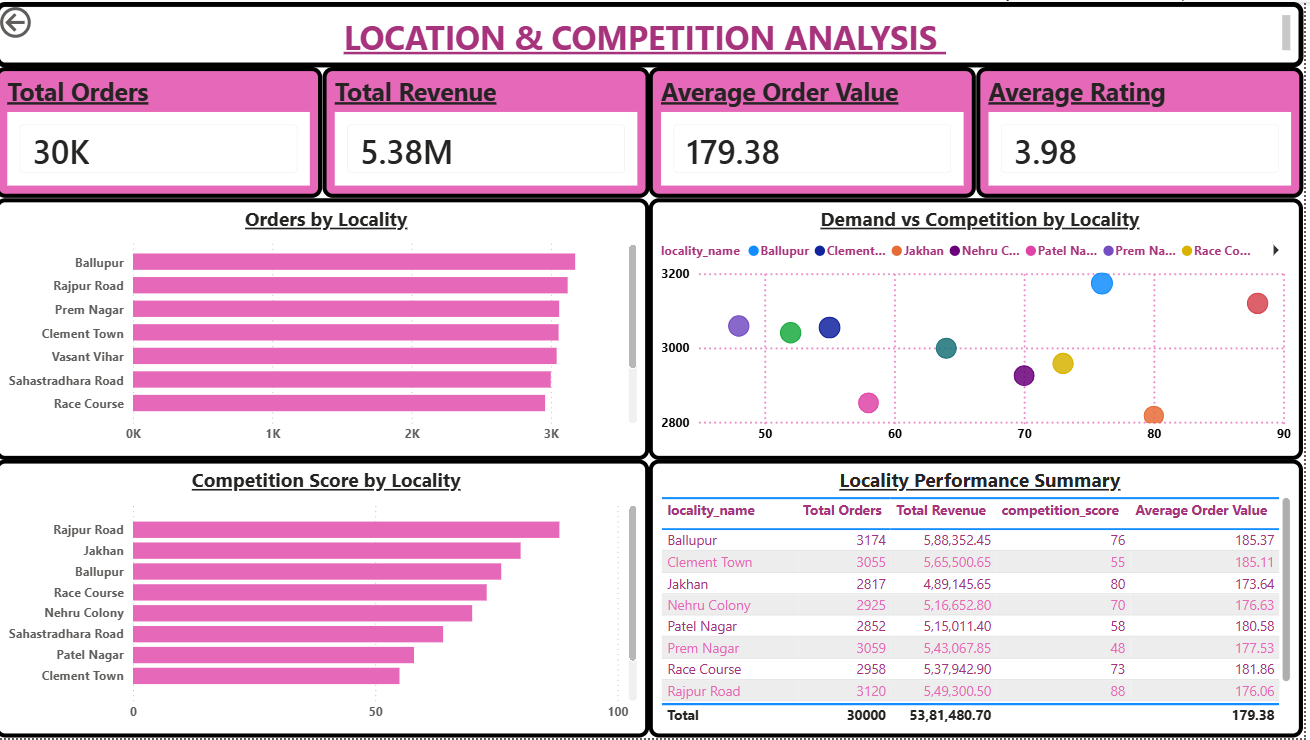

What the dashboard file says about the page in this screenshot:
{"tool":"powerbi","page":{"name":"Location & Competition","canvas":[1280,720],"ordinal":2},"visuals":[{"type":"textbox","box":[0,0,1280,64],"z":0},{"type":"cardVisual","title":"Total Orders","fields":{"Data":["orders.Total Orders"]},"box":[0,64,320,128],"z":1000},{"type":"cardVisual","title":"Total Revenue","fields":{"Data":["orders.Total Revenue"]},"box":[320,64,320,128],"z":2000},{"type":"cardVisual","title":"Average Order Value","fields":{"Data":["orders.Average Order Value"]},"box":[640,64,320,128],"z":3000},{"type":"cardVisual","title":"Average Rating","fields":{"Data":["orders.Average Rating"]},"box":[960,64,320,128],"z":4000},{"type":"clusteredBarChart","title":"Orders by Locality","fields":{"Category":["localities.locality_name"],"Y":["orders.Total Orders"]},"box":[0,192,640,256],"z":5000},{"type":"scatterChart","title":"Demand vs Competition by Locality","fields":{"X":["localities.competition_score"],"Y":["orders.Total Orders"],"Size":["orders.Total Revenue"],"Series":["localities.locality_name"]},"box":[640,192,640,256],"z":6000},{"type":"clusteredBarChart","title":"Competition Score by Locality","fields":{"Category":["localities.locality_name"],"Y":["Avg(localities.competition_score)"]},"box":[0,448,640,272],"z":7000},{"type":"tableEx","title":"Locality Performance Summary","fields":{"Values":["localities.locality_name","orders.Total Orders","orders.Total Revenue","localities.competition_score","orders.Average Order Value"]},"box":[640,448,640,272],"z":8000},{"type":"actionButton","box":[0,0,100,40],"z":9000}]}

Visuals, with their boxes in screenshot pixels (x1, y1, x2, y2), scaled from the page's 1280x720 canvas onto the 1310x740 screenshot:
textbox: <bbox>0, 0, 1309, 66</bbox>
"Total Orders" cardVisual: <bbox>0, 66, 328, 197</bbox>
"Total Revenue" cardVisual: <bbox>328, 66, 655, 197</bbox>
"Average Order Value" cardVisual: <bbox>655, 66, 982, 197</bbox>
"Average Rating" cardVisual: <bbox>982, 66, 1309, 197</bbox>
"Orders by Locality" clusteredBarChart: <bbox>0, 197, 655, 460</bbox>
"Demand vs Competition by Locality" scatterChart: <bbox>655, 197, 1309, 460</bbox>
"Competition Score by Locality" clusteredBarChart: <bbox>0, 460, 655, 739</bbox>
"Locality Performance Summary" tableEx: <bbox>655, 460, 1309, 739</bbox>
actionButton: <bbox>0, 0, 102, 41</bbox>
